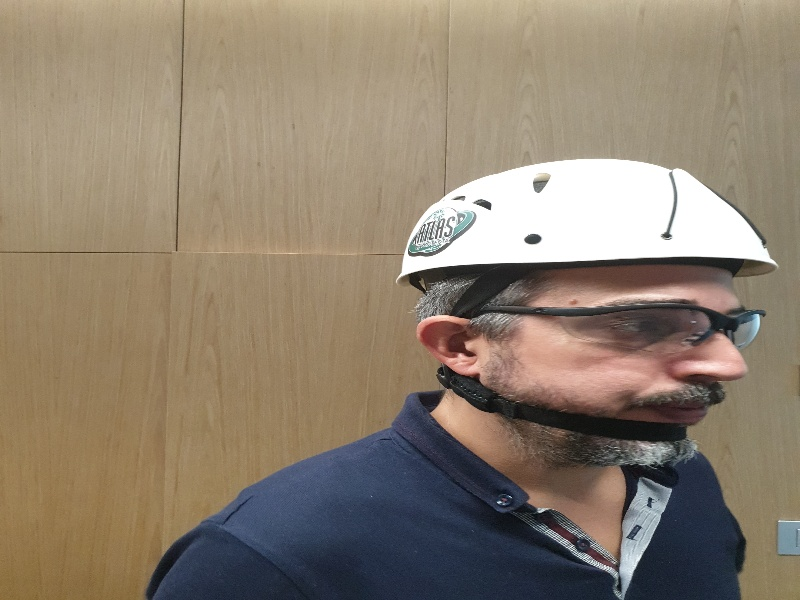Baret: (396, 156, 780, 278)
Gozluk: (463, 302, 766, 356)
